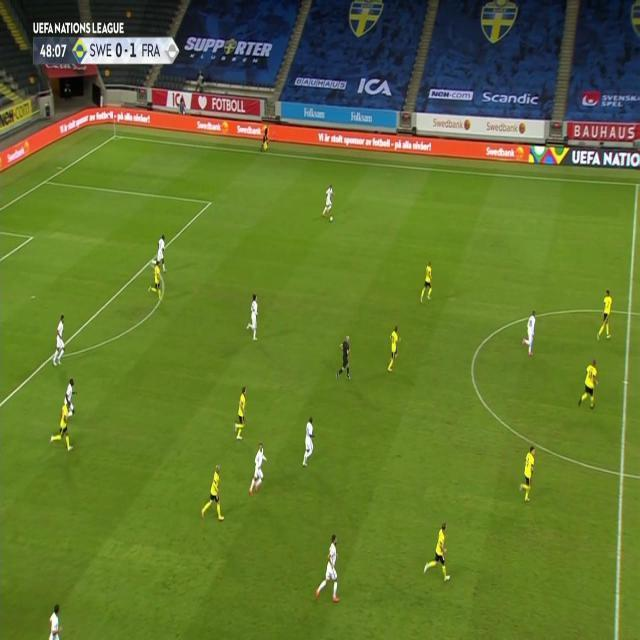ball: (328, 214, 334, 224)
player: (314, 535, 342, 605), (423, 522, 453, 584), (201, 463, 226, 524), (50, 401, 76, 455), (577, 357, 599, 410), (518, 444, 537, 505), (248, 442, 268, 495), (596, 288, 614, 341), (233, 386, 249, 442), (520, 309, 538, 357), (300, 415, 316, 468), (53, 312, 68, 367), (386, 324, 402, 373), (245, 293, 260, 341), (148, 258, 165, 300), (46, 602, 64, 640), (420, 259, 434, 302), (321, 182, 336, 220), (154, 233, 168, 271), (64, 377, 78, 415)
referee: (335, 334, 352, 383), (260, 124, 269, 152)
